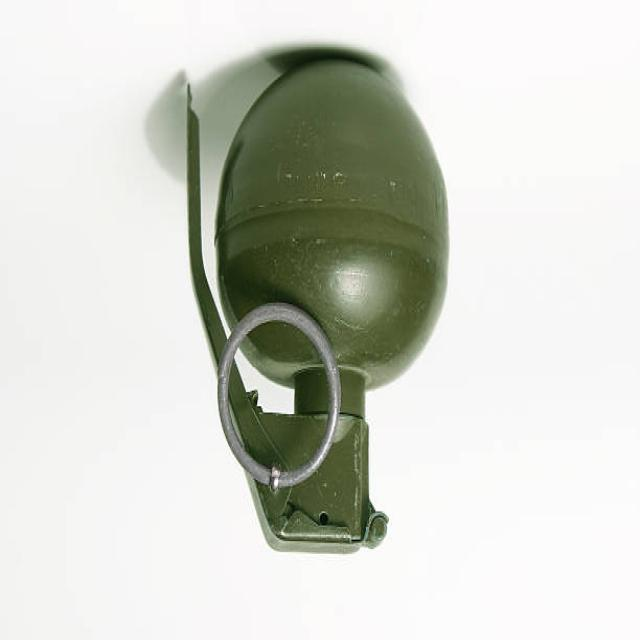grenade: (186, 48, 453, 564)
